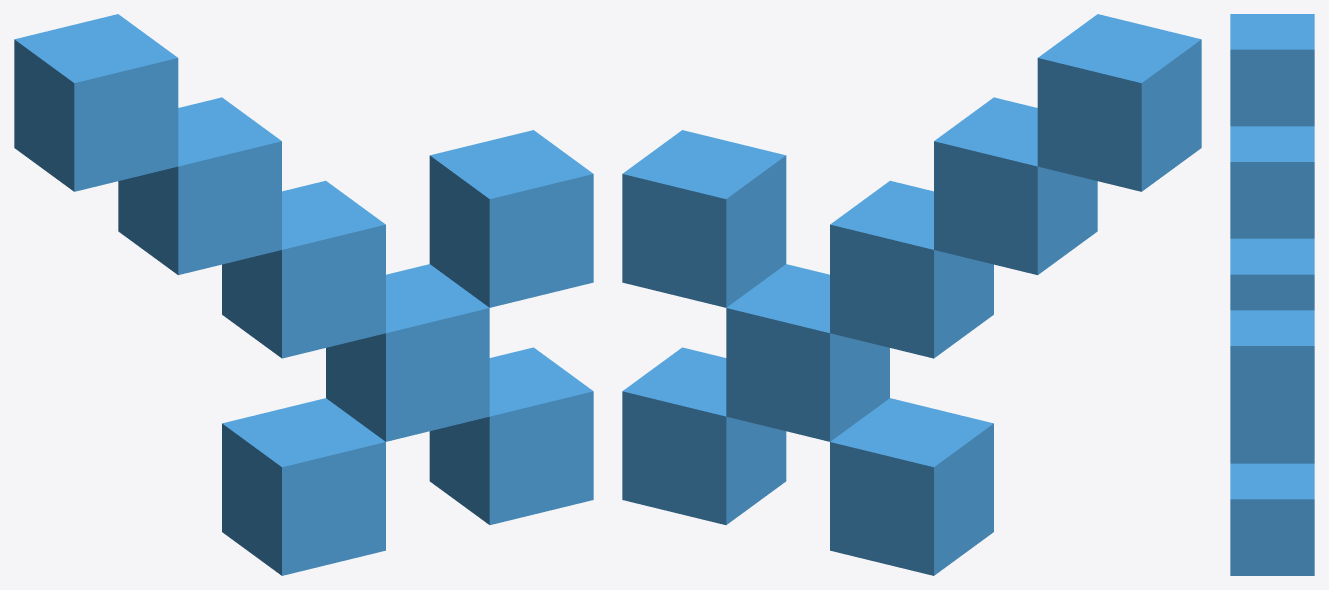
File: Knife-Blue.vox.obj
3 renders of one model, left to right at view 1: azimuth 30°, elevation 25°; view 2: azimuth 150°, elevation 25°; view 3: azimuth 270°, elevation 25°, orthographic. The views are drawn at different scales.
Bounding box in the file's own units: 0.5 × 0.5 × 0.1.
1 material, 1 textured.
